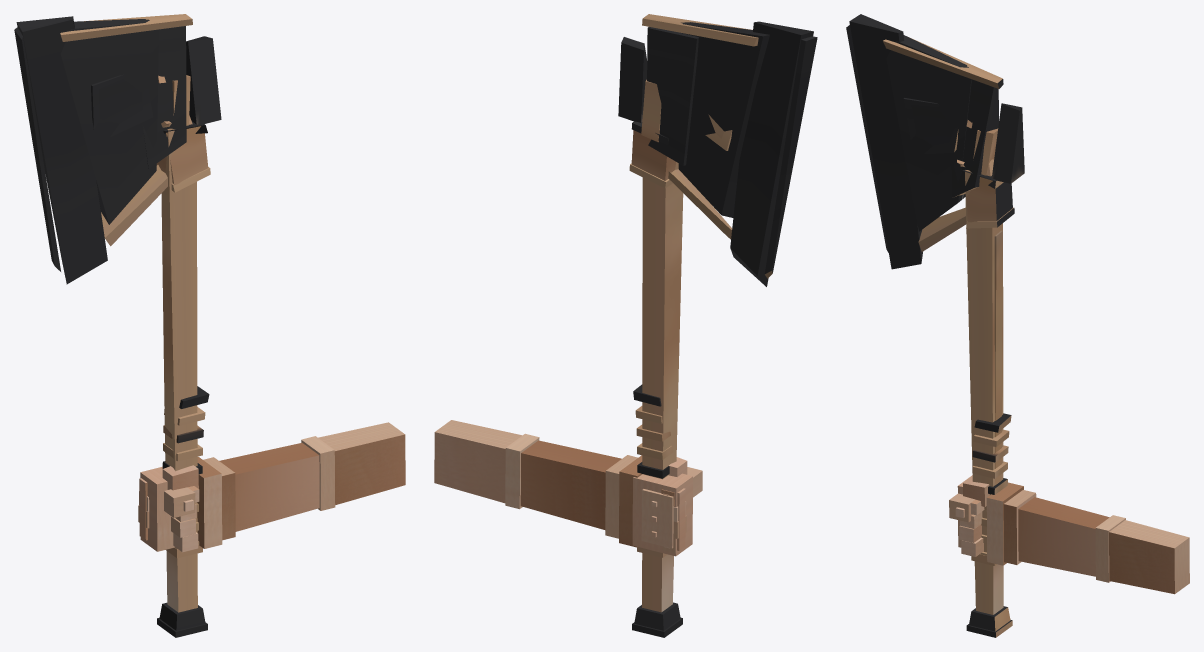
Rendered from right_fist_axe.glb.
3 renders of one model, left to right at view 1: azimuth 30°, elevation 25°; view 2: azimuth 150°, elevation 25°; view 3: azimuth 330°, elevation 25°, orthographic. The views are drawn at different scales.
Parts seen in each view (by area): view 1: PS1_Axe, PS1_Right_Fist.001; view 2: PS1_Axe, PS1_Right_Fist.001; view 3: PS1_Axe, PS1_Right_Fist.001.
Part boxes in pixels (left/top/right/bottom): PS1_Axe: left=14, top=14, right=221, bottom=637; PS1_Right_Fist.001: left=138, top=422, right=405, bottom=552; PS1_Axe: left=618, top=14, right=817, bottom=637; PS1_Right_Fist.001: left=434, top=420, right=702, bottom=556; PS1_Axe: left=846, top=14, right=1024, bottom=637; PS1_Right_Fist.001: left=949, top=475, right=1189, bottom=594.
Size of the model in its own units: 0.5207 by 0.8438 by 0.084.
2 materials, 2 textured.
